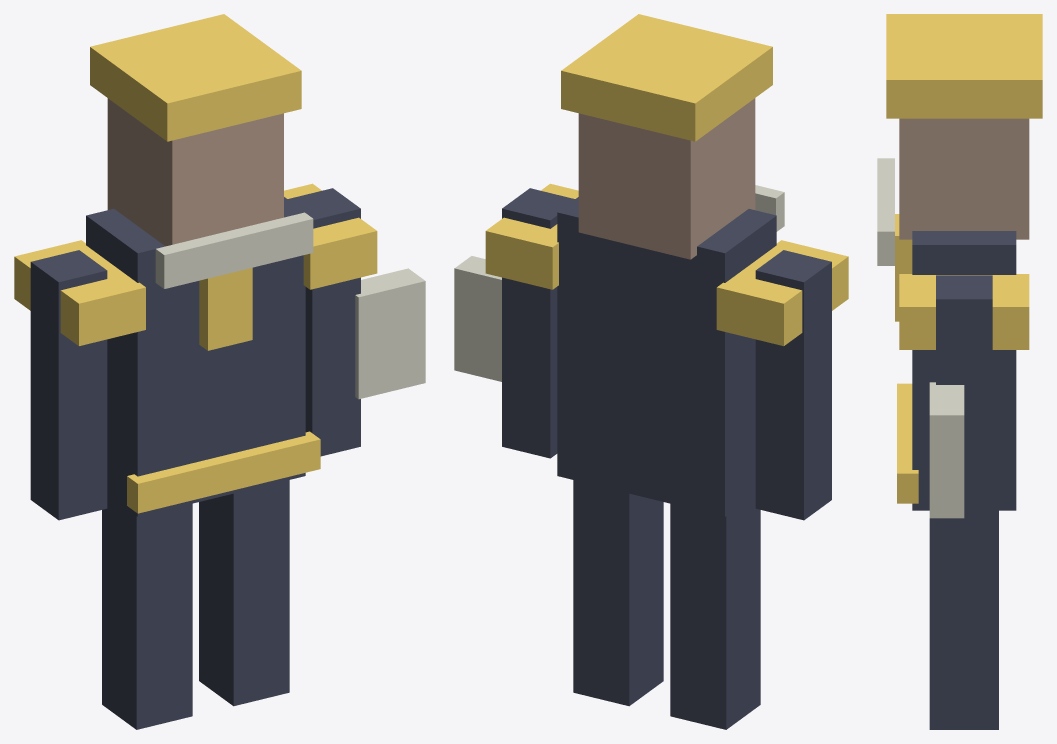
Rendered from 17_noor_stormhush_navigator_under_data.glb.
3 renders of one model, left to right at view 1: azimuth 30°, elevation 25°; view 2: azimuth 150°, elevation 25°; view 3: azimuth 270°, elevation 25°, orthographic.
Visible parts, largest first — view 1: Noor Stormhush, Navigator under Data; view 2: Noor Stormhush, Navigator under Data; view 3: Noor Stormhush, Navigator under Data.
Part boxes in pixels (x1,y1,x2,y2): Noor Stormhush, Navigator under Data: (14,14,425,729); Noor Stormhush, Navigator under Data: (454,14,848,729); Noor Stormhush, Navigator under Data: (877,14,1042,729).
Size of the model in its own units: 0.8973 by 1.51 by 0.3497.
